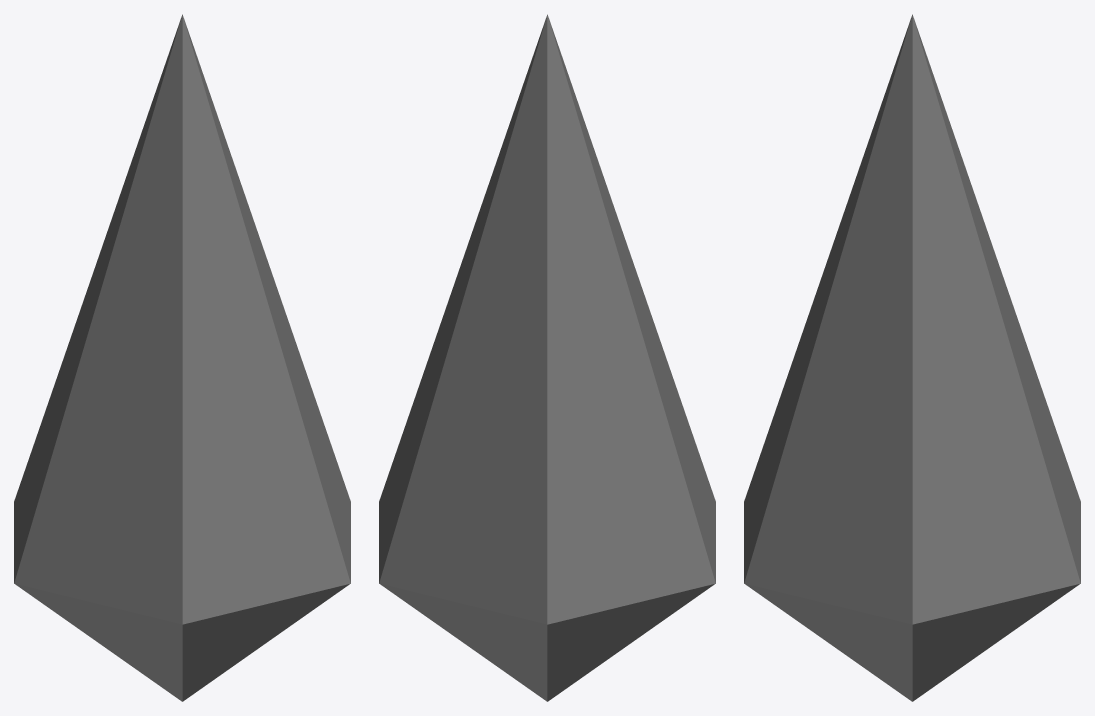
The model's file is audioVis.glb.
3 views of the same model, side by side, from view 1: azimuth 30°, elevation 25°; view 2: azimuth 150°, elevation 25°; view 3: azimuth 270°, elevation 25° (orthographic).
Parts seen in each view (by area): view 1: node_id3; view 2: node_id3; view 3: node_id3.
Part boxes in pixels (x1=…): node_id3: x1=14, y1=14, x2=350, y2=701; node_id3: x1=379, y1=14, x2=715, y2=701; node_id3: x1=744, y1=14, x2=1080, y2=701.
Bounding box in the file's own units: 0.2622 × 0.512 × 0.2271.
1 material, 1 textured.
